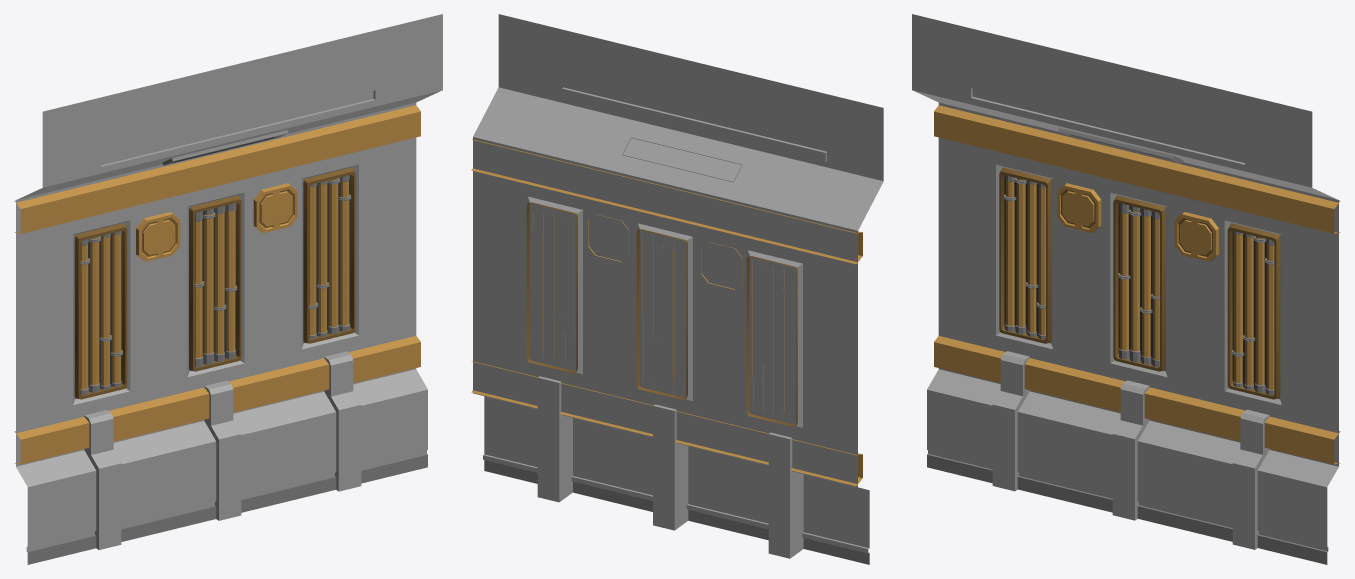
Rendered from Wall_2.fbx.
The picture shows the model from 3 angles, left to right: view 1: azimuth 30°, elevation 25°; view 2: azimuth 150°, elevation 25°; view 3: azimuth 330°, elevation 25°; orthographic projection. The views are drawn at different scales.
Parts seen in each view (by area): view 1: Wall_2; view 2: Wall_2; view 3: Wall_2.
Part boxes in pixels (x1,y1,x2,y2): Wall_2: (14,14,442,564); Wall_2: (471,14,883,564); Wall_2: (912,14,1340,564).
Bounding box in the file's own units: 4 × 4.43 × 0.5334.
